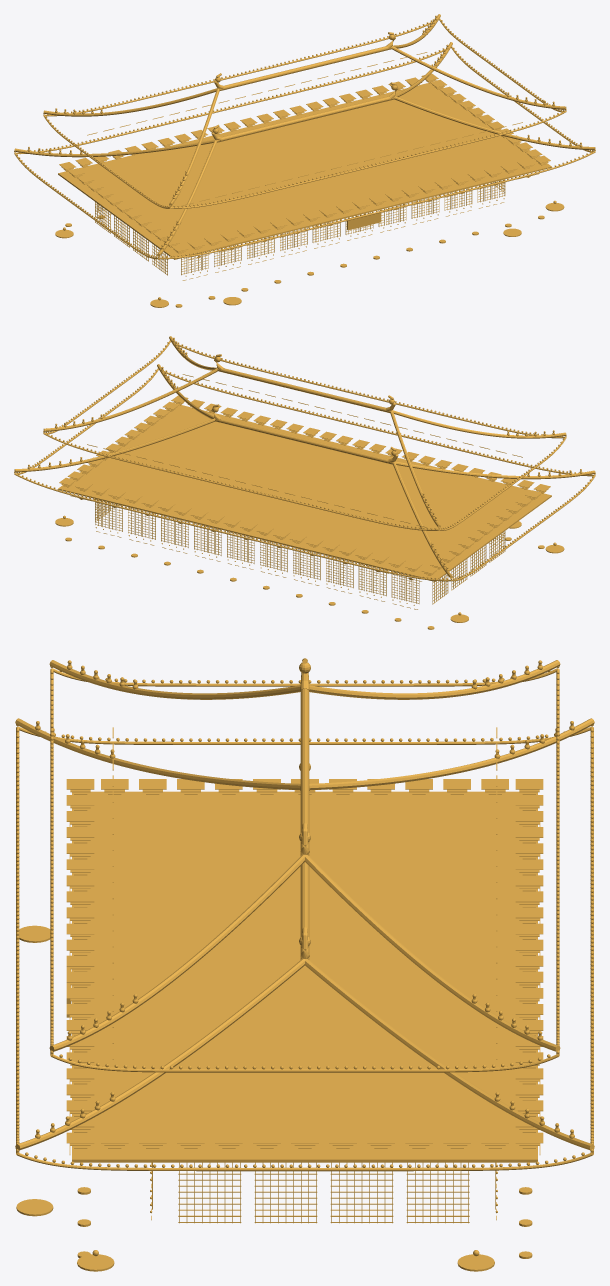
File: SM_07_gold.fbx
The picture shows the model from 3 angles, top to bottom: view 1: azimuth 30°, elevation 25°; view 2: azimuth 150°, elevation 25°; view 3: azimuth 270°, elevation 25°; orthographic projection. The views are drawn at different scales.
Visible parts, largest first — view 1: gold; view 2: gold; view 3: gold.
Boxes of the visible parts, left/top/right/bottom form: gold: left=14, top=14, right=595, bottom=307; gold: left=14, top=336, right=595, bottom=629; gold: left=15, top=658, right=594, bottom=1271.
Bounding box in the file's own units: 5325 × 3046 × 1962.
